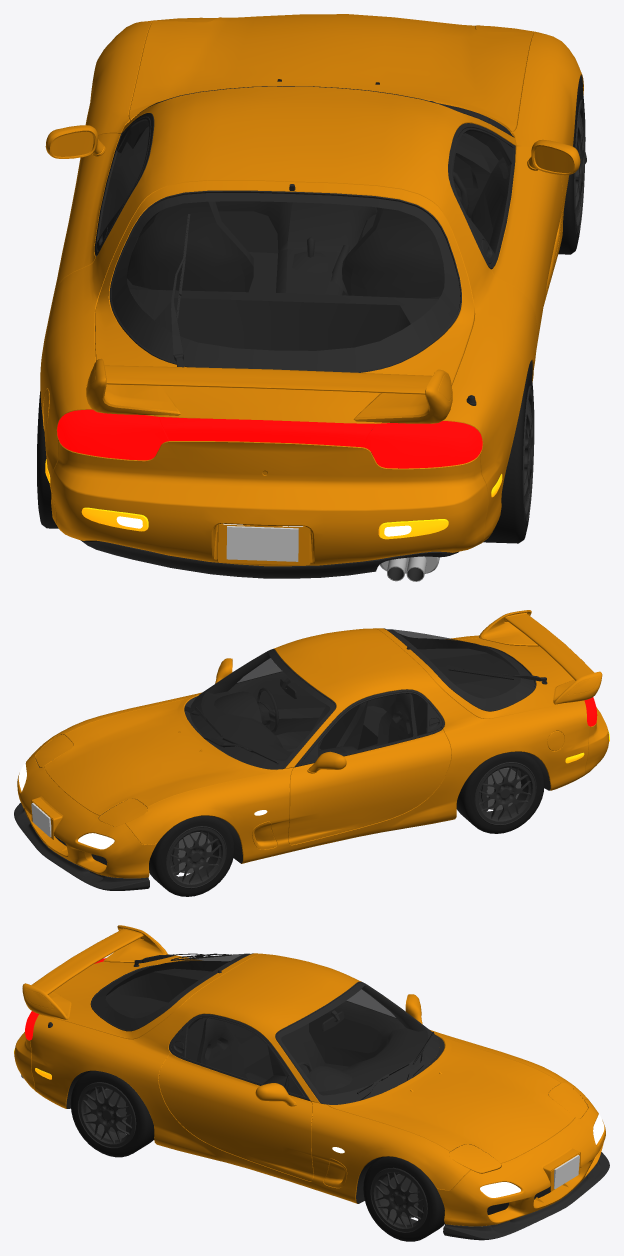
The model's file is rx-7_scaled.glb.
The picture shows the model from 3 angles, top to bottom: view 1: azimuth 30°, elevation 25°; view 2: azimuth 150°, elevation 25°; view 3: azimuth 270°, elevation 25°; orthographic projection. The views are drawn at different scales.
Parts seen in each view (by area): view 1: Mazda RX-7_4, Rear Wheels_3, Front Right Wheel_1; view 2: Mazda RX-7_4, Rear Wheels_3, Front Left Wheel_0, Lights_2; view 3: Mazda RX-7_4, Rear Wheels_3, Front Right Wheel_1, Lights_2.
Part boxes in pixels (bbox=[...]): Mazda RX-7_4: bbox=[40, 14, 586, 581]; Rear Wheels_3: bbox=[37, 368, 534, 543]; Front Right Wheel_1: bbox=[558, 81, 585, 254]; Mazda RX-7_4: bbox=[14, 610, 609, 890]; Rear Wheels_3: bbox=[456, 751, 544, 833]; Front Left Wheel_0: bbox=[149, 815, 234, 896]; Lights_2: bbox=[35, 734, 147, 826]; Mazda RX-7_4: bbox=[14, 925, 609, 1240]; Rear Wheels_3: bbox=[70, 1070, 154, 1157]; Front Right Wheel_1: bbox=[363, 1156, 444, 1241]; Lights_2: bbox=[449, 1083, 587, 1173].
Size of the model in its own units: 2.91 by 1.01 by 3.47.
